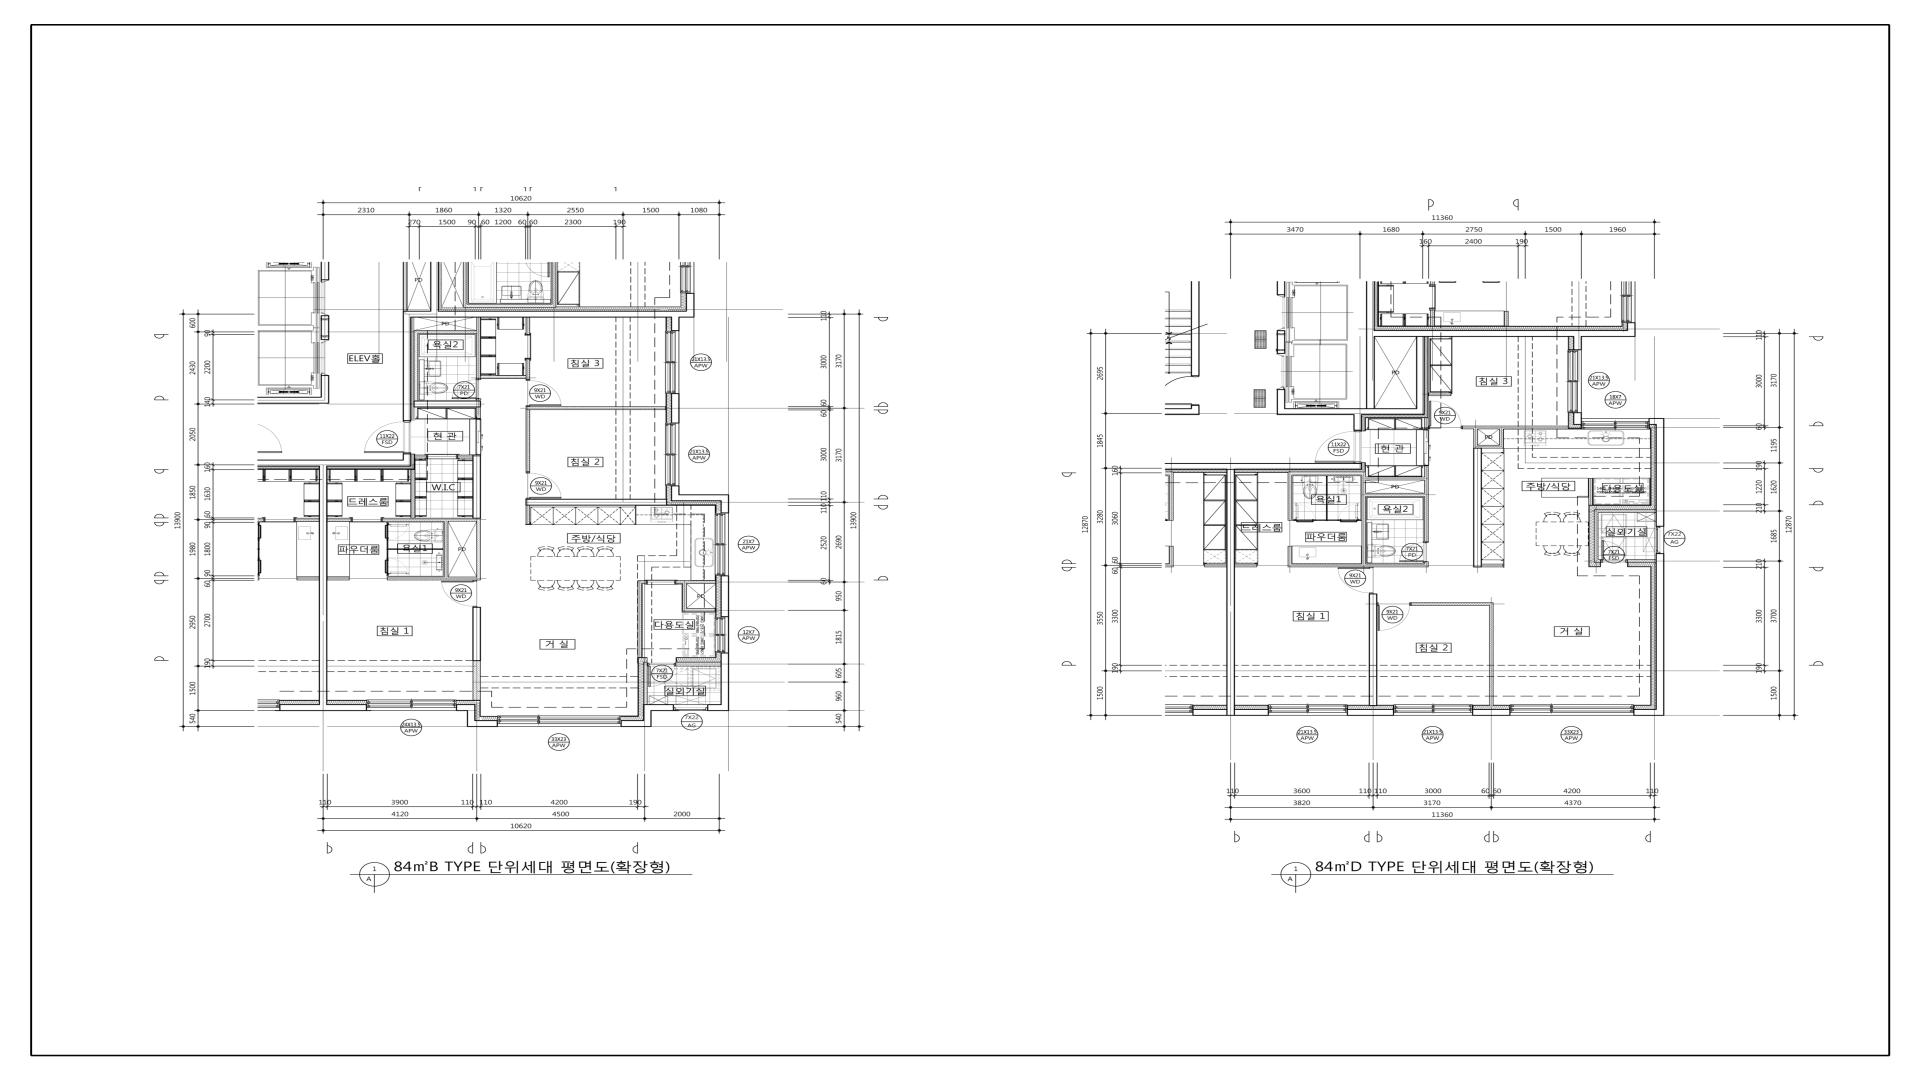door: (364, 421, 411, 454), (1315, 431, 1356, 463), (1337, 567, 1374, 593), (526, 380, 562, 406), (526, 472, 562, 498), (442, 580, 477, 607), (1164, 376, 1196, 405), (1429, 401, 1461, 429), (1378, 604, 1410, 630), (647, 663, 676, 687), (452, 378, 481, 401), (1601, 541, 1627, 562), (1399, 542, 1427, 562), (385, 558, 409, 576), (385, 522, 409, 541), (1295, 502, 1315, 522), (1338, 502, 1358, 522), (476, 418, 481, 455), (1424, 430, 1429, 465), (525, 332, 531, 360), (351, 517, 382, 522), (427, 454, 458, 459), (647, 580, 675, 584)
wall: (1353, 330, 1635, 431), (1634, 554, 1664, 716), (1226, 469, 1236, 716), (1276, 389, 1354, 415), (402, 311, 695, 318), (319, 467, 327, 704), (1648, 418, 1664, 527), (1164, 463, 1362, 469), (525, 498, 667, 506), (1473, 448, 1482, 568), (1369, 593, 1378, 705), (257, 460, 411, 467), (1366, 281, 1374, 409), (402, 318, 411, 421), (1191, 281, 1200, 376), (472, 607, 481, 700), (1287, 562, 1428, 567), (472, 455, 481, 518), (280, 704, 367, 711), (526, 406, 667, 410), (1489, 605, 1494, 705), (1361, 472, 1366, 564), (257, 397, 330, 404), (430, 262, 439, 311), (414, 401, 481, 407), (1461, 426, 1568, 430), (721, 653, 729, 704), (1423, 465, 1428, 542), (637, 584, 642, 657), (1164, 405, 1200, 415), (388, 576, 476, 580), (1594, 513, 1601, 563), (671, 495, 721, 501), (1411, 603, 1494, 607), (721, 576, 729, 617), (476, 318, 481, 378), (476, 521, 481, 580), (1348, 709, 1394, 716), (414, 334, 418, 401), (382, 518, 481, 521), (410, 469, 415, 518), (402, 262, 407, 311), (1472, 709, 1510, 716), (1594, 509, 1656, 513), (526, 410, 530, 472), (414, 330, 476, 334), (1287, 475, 1292, 521), (671, 393, 679, 423), (320, 315, 330, 340), (1366, 493, 1424, 497), (1366, 476, 1424, 480), (1276, 330, 1286, 353), (444, 521, 448, 576), (1236, 709, 1269, 716), (621, 720, 651, 727), (1287, 472, 1361, 475), (320, 376, 330, 397), (675, 662, 721, 666), (481, 375, 526, 378), (644, 662, 647, 704), (675, 580, 716, 584), (320, 262, 330, 280), (476, 720, 498, 727), (651, 704, 674, 711), (1588, 477, 1593, 505), (721, 495, 729, 513), (467, 711, 476, 727), (682, 584, 687, 612), (708, 704, 729, 711), (456, 704, 476, 711), (644, 704, 651, 720), (1325, 475, 1328, 520), (1276, 281, 1284, 295), (1627, 559, 1656, 563), (687, 608, 716, 612), (1473, 429, 1478, 448), (671, 318, 679, 331), (1287, 546, 1292, 564), (1573, 413, 1581, 425), (327, 518, 351, 522), (327, 576, 349, 580), (1482, 563, 1503, 567), (1499, 429, 1503, 448), (526, 505, 530, 525), (526, 360, 530, 380), (671, 485, 679, 495), (389, 549, 443, 550), (1424, 418, 1429, 430), (1428, 393, 1452, 396), (402, 454, 411, 460), (1236, 564, 1258, 567), (458, 455, 472, 459), (526, 318, 530, 332), (1478, 446, 1499, 448), (476, 407, 481, 418), (414, 455, 427, 459), (386, 541, 389, 558), (637, 580, 647, 584), (1315, 520, 1338, 521)
window: (1510, 704, 1634, 716), (497, 716, 621, 727), (367, 700, 456, 711), (1269, 704, 1348, 716), (1394, 704, 1472, 716), (715, 513, 729, 576), (1568, 351, 1582, 413), (665, 331, 679, 393), (665, 423, 679, 485), (1581, 418, 1648, 430), (715, 617, 729, 653), (674, 704, 708, 711), (1656, 527, 1664, 554)
